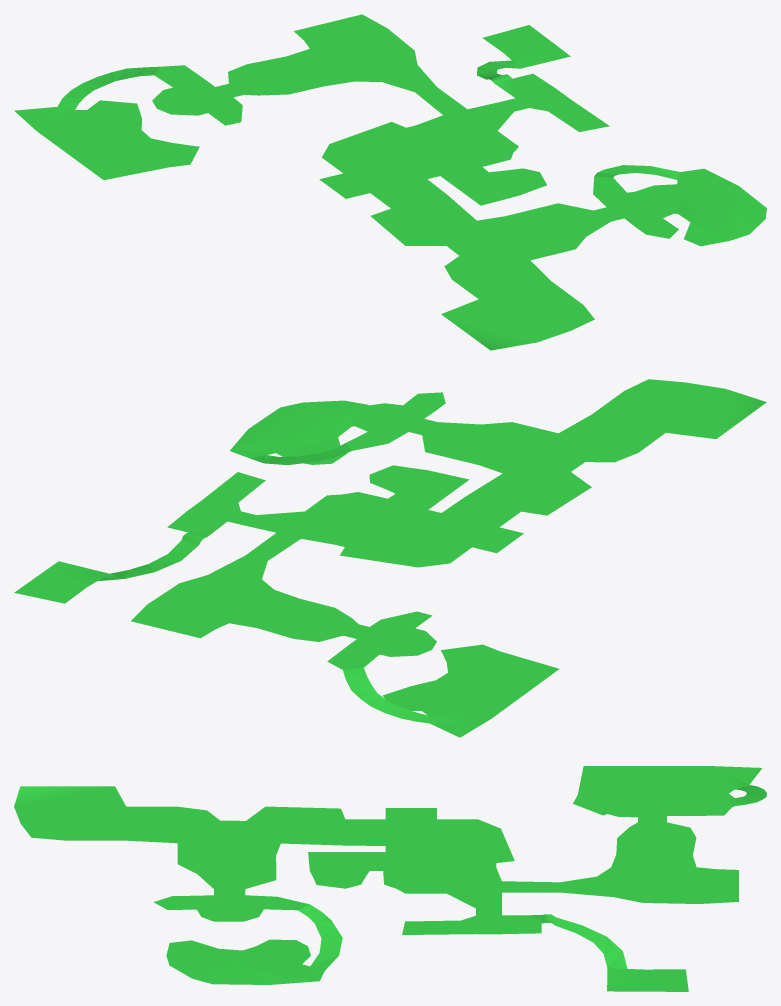
File: blsd_collision_4.FBX
The picture shows the model from 3 angles, top to bottom: view 1: azimuth 30°, elevation 25°; view 2: azimuth 150°, elevation 25°; view 3: azimuth 270°, elevation 25°; orthographic projection. The views are drawn at different scales.
Parts seen in each view (by area): view 1: blsd_collision_4; view 2: blsd_collision_4; view 3: blsd_collision_4.
Boxes of the visible parts, <box> form: blsd_collision_4: <box>14,14,766,350</box>; blsd_collision_4: <box>14,379,766,737</box>; blsd_collision_4: <box>14,766,766,991</box>.
Bounding box in the file's own units: 7866 × 417 × 11186.
